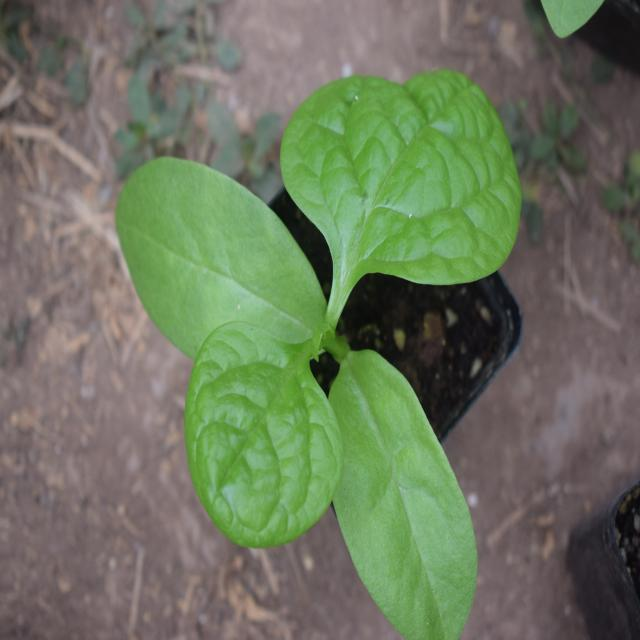Ceylon spinach: (118, 56, 498, 634)
